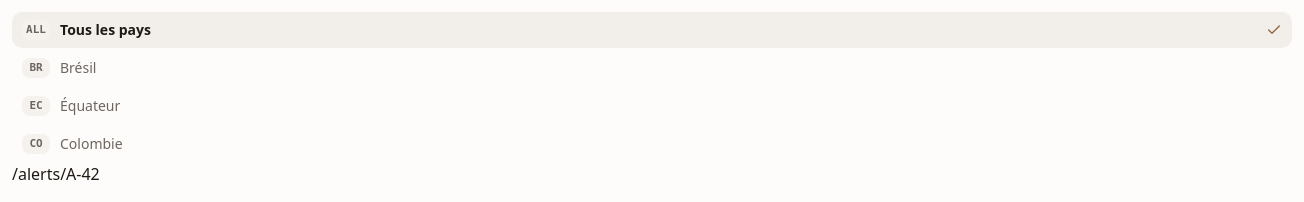
it: SidebarCountryNav › should navigate from an alert detail to the scoped alerts list
What coordinates should you click on to do the following:
click the button "CO Colombie"
I would click on:
 (91, 144)
Its box is [12,126,1292,162].
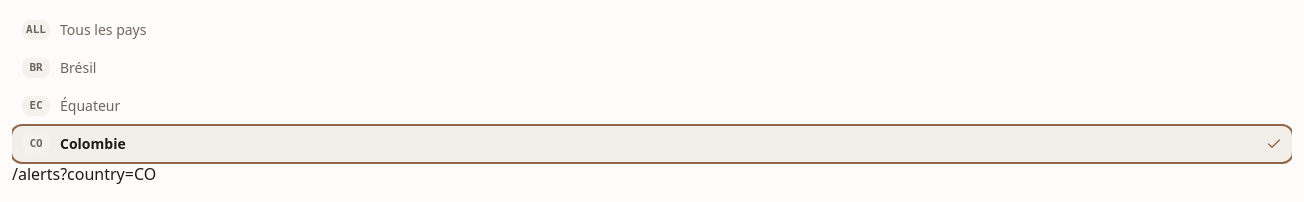
Expected: the text with test id "location" reads "/alerts?country=CO", [12,163,156,185]
